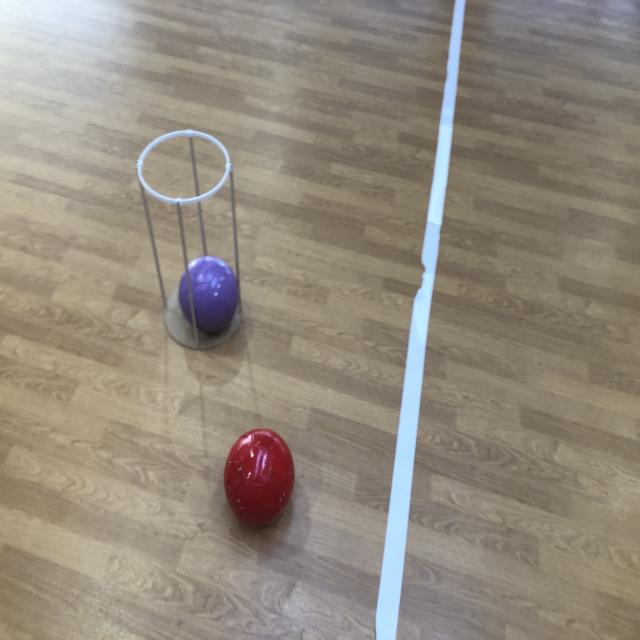purple_ball: (178, 257, 239, 332)
red_ball: (223, 429, 295, 529)
